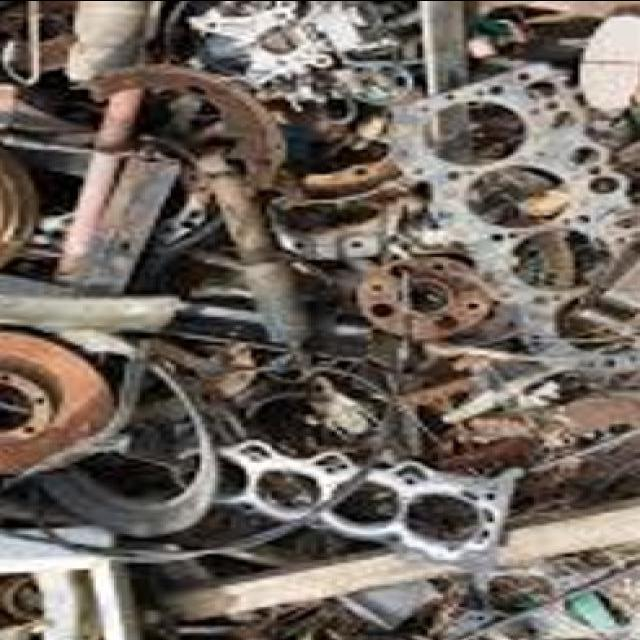shock absorber: (207, 150, 315, 374)
